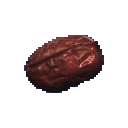ng: (18, 30, 110, 100)
